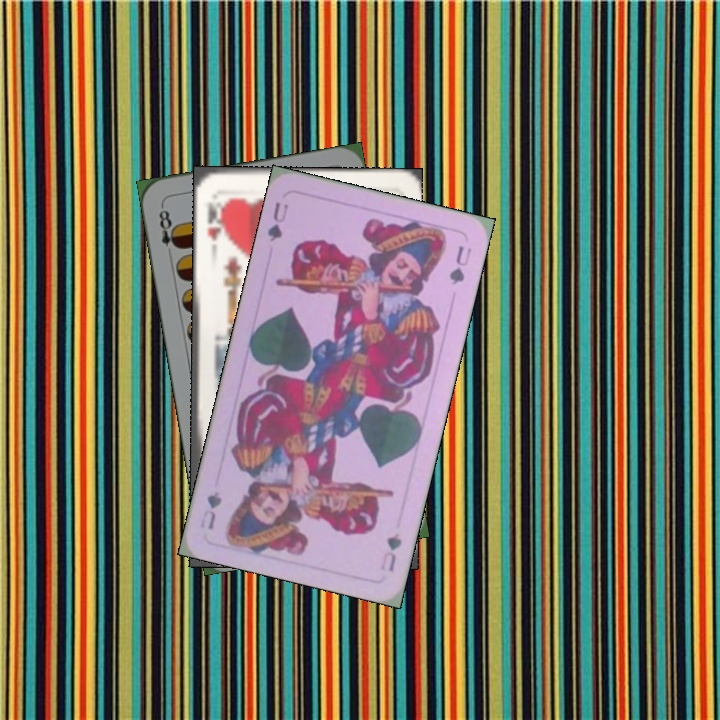E8: (155, 201, 182, 252)
GU: (376, 529, 405, 574), (263, 198, 291, 244)
HK: (203, 198, 227, 243)
